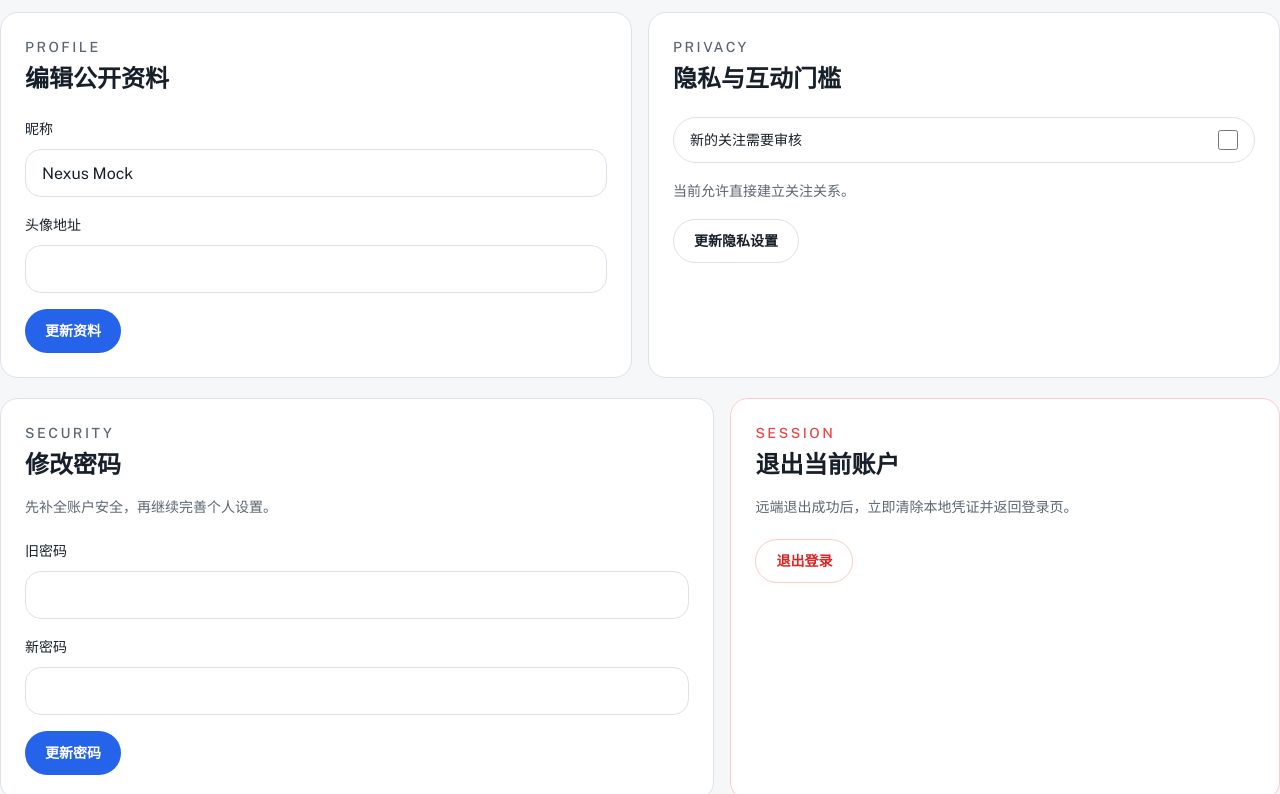
Test case: submits password change and shows success feedback
This screenshot has width=1280, height=794.
(page scrolled)
In the password field with test id "old-password-input": (357, 595) [25, 571, 689, 619], type "old-secret"
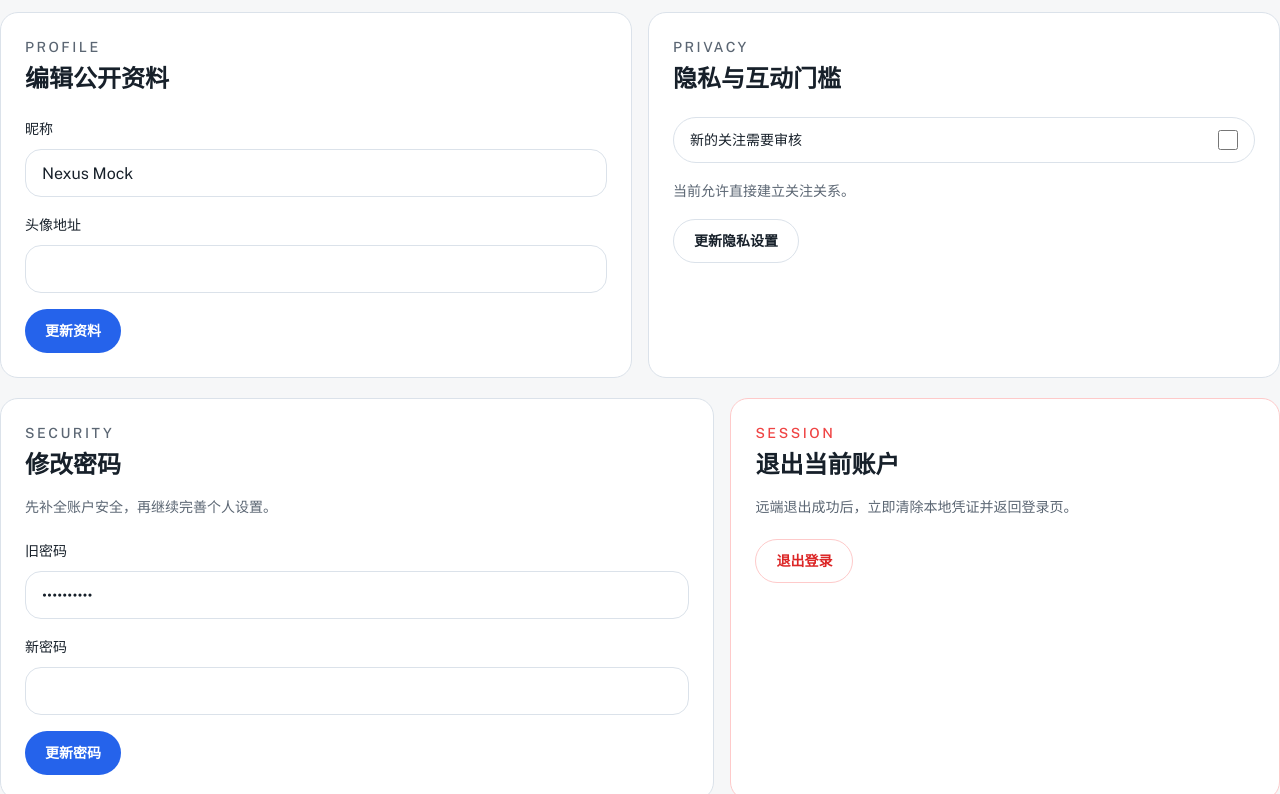
In the password field with test id "new-password-input": (357, 691) [25, 667, 689, 715], type "new-secret"
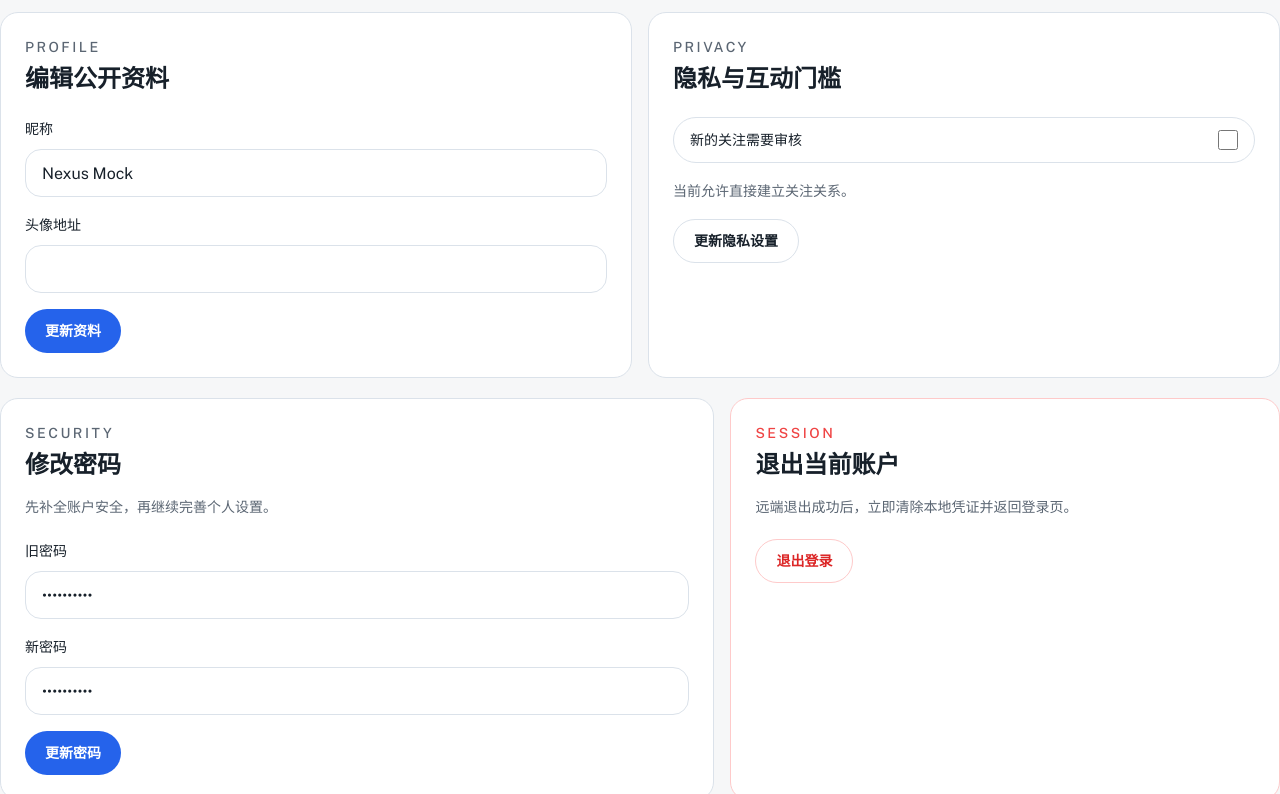
Submit the form with test id "password-form", box [25, 539, 689, 775]
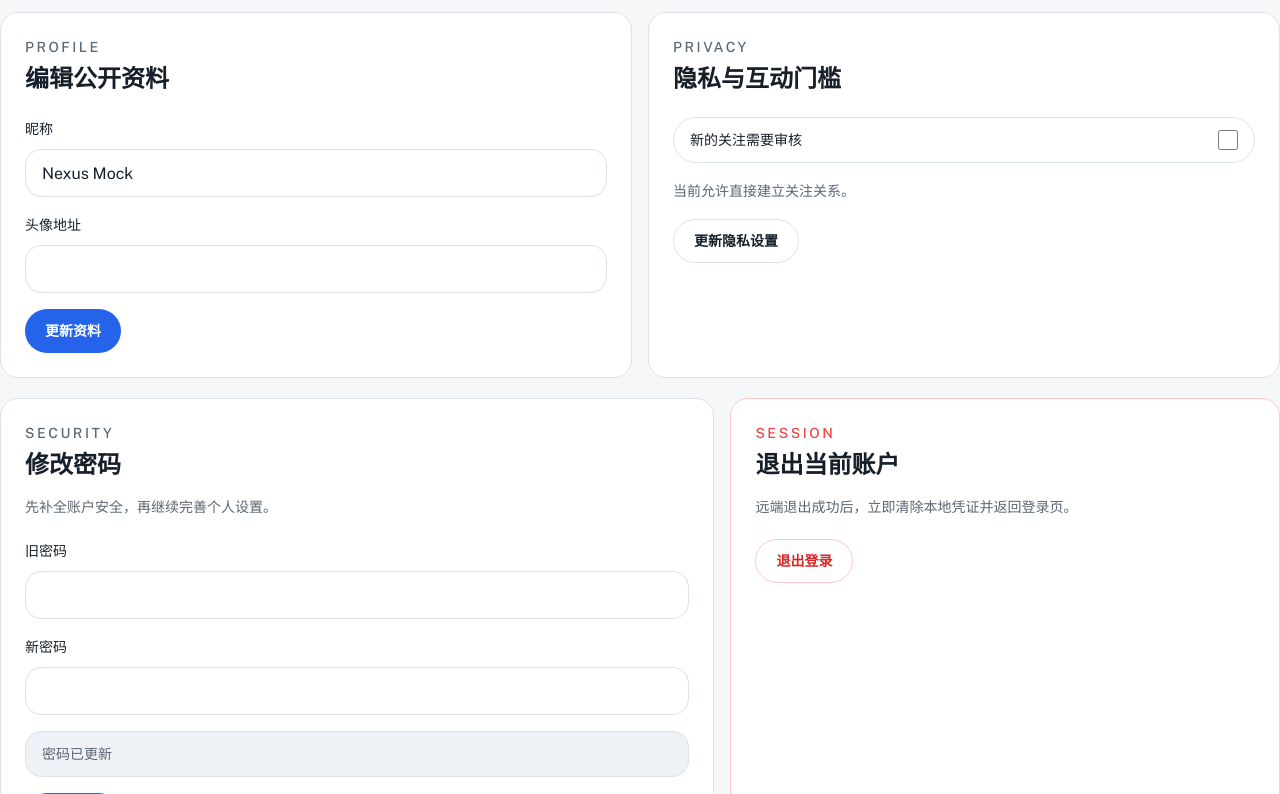
Result: the text "密码已更新" is shown at [25, 731, 689, 777]
